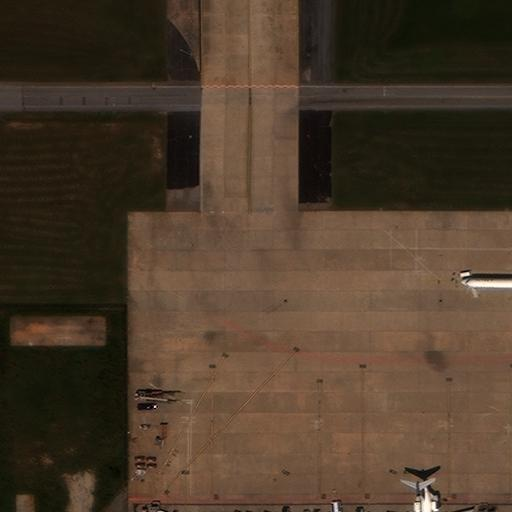Medium Civil Transport: (390, 475, 472, 512), (458, 255, 511, 309)
